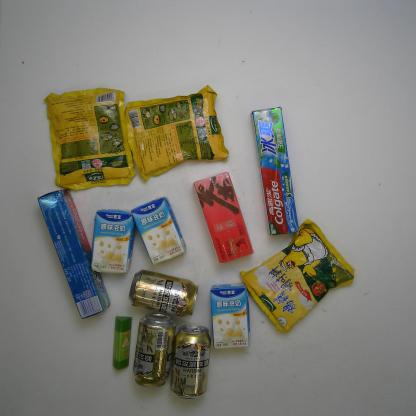Alcohol: (124, 269, 206, 320), (166, 324, 216, 400), (129, 312, 176, 388)
Instant Drink: (192, 172, 258, 267)
Milk: (85, 208, 142, 279), (129, 197, 186, 266), (207, 281, 253, 353)
Personal Hygiene: (32, 190, 112, 321), (247, 105, 308, 240)
Seasoner: (238, 218, 364, 335), (42, 77, 142, 193), (122, 86, 236, 183)
Stationery: (107, 313, 133, 372)
